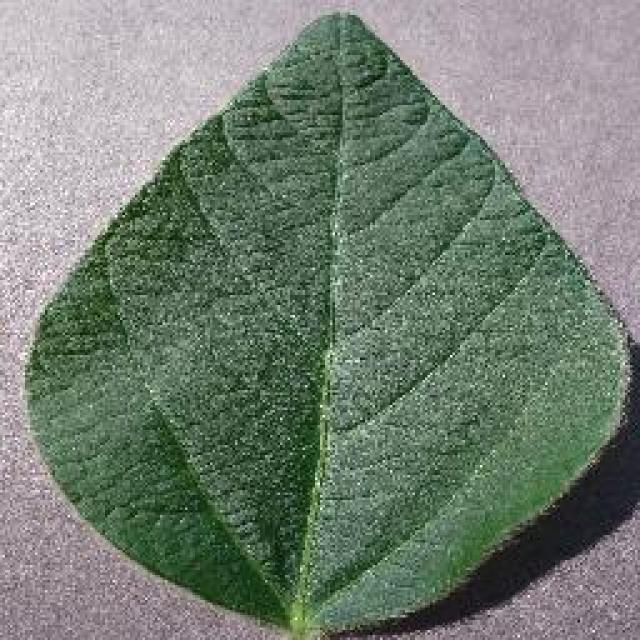Soy_healthy: (57, 114, 600, 562)
